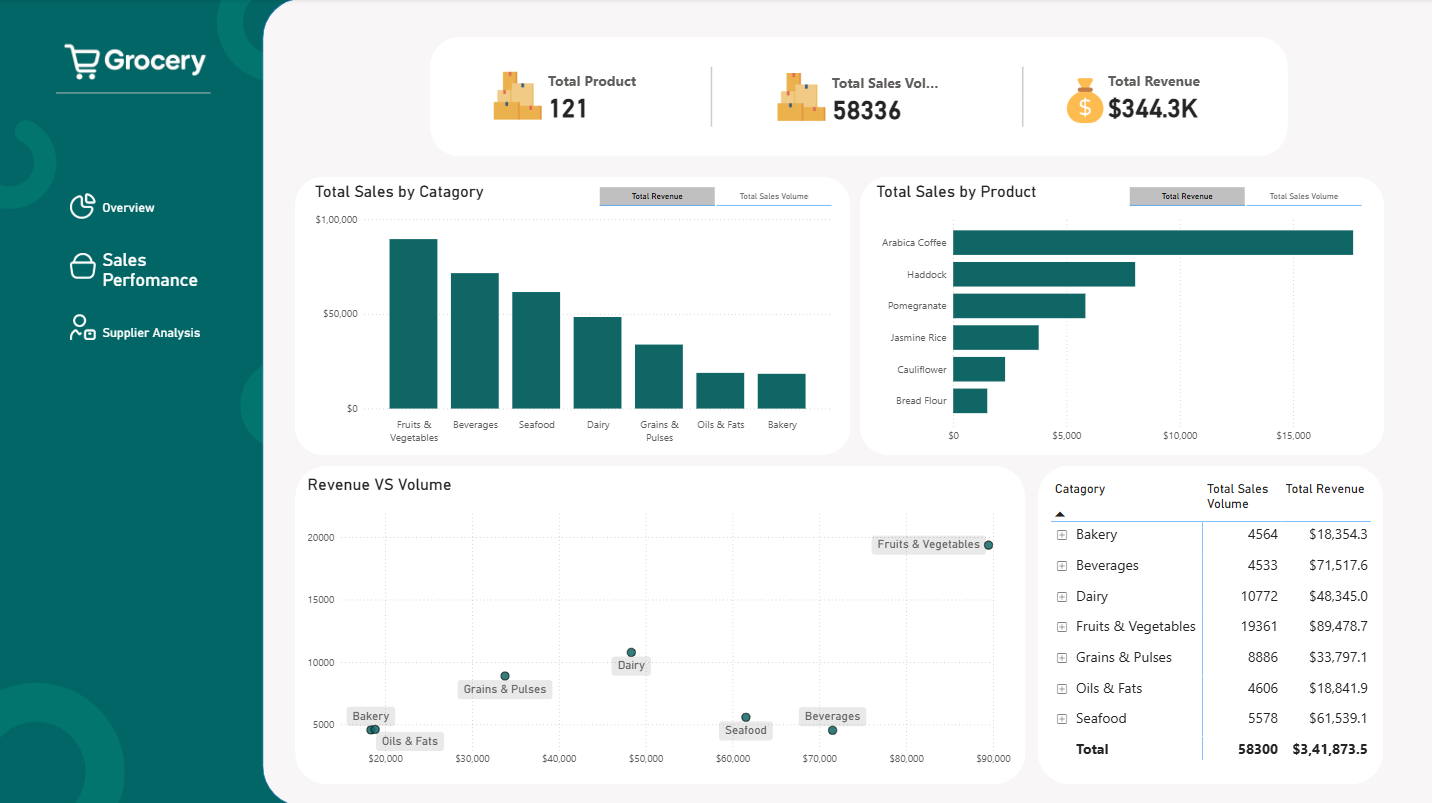

The page's visual inventory and layout, read from the dashboard file:
{"tool":"powerbi","page":{"name":"Sales Perfomance","canvas":[1920,1080],"ordinal":1},"visuals":[{"type":"shape","box":[350,0,1570,1080],"z":0},{"type":"image","box":[44,4,272.4,163.8],"z":0,"group":"g4"},{"type":"image","box":[94,260,34,34],"z":0,"group":"g5"},{"type":"cardVisual","fields":{"Data":["_measures.Total Revenue"]},"box":[1452,66,210,130],"z":1000,"group":"g3"},{"type":"shape","box":[76,88,206,80],"z":1000,"group":"g4"},{"type":"image","box":[94,422,34,34],"z":1000,"group":"g5"},{"type":"shape","box":[1386,624,462,426],"z":1000},{"type":"image","box":[94,341,34,34],"z":2000,"group":"g5"},{"type":"shape","box":[394,624,976,426],"z":2000},{"type":"shape","box":[1148,238,700,372],"z":3000},{"type":"shape","box":[574,52.2,1146,160],"z":4000},{"type":"pageNavigator","box":[138,242,180,242],"z":4000,"group":"g5"},{"type":"group","id":"g1","title":"Group 1","box":[660,66,254,130],"z":5000},{"type":"image","box":[1418,104,64,64],"z":5000,"group":"g3"},{"type":"group","id":"g2","title":"Group 1","box":[1039,68,254,130],"z":6000},{"type":"group","id":"g3","title":"Group 2","box":[1418,66,244,130],"z":7000},{"type":"cardVisual","fields":{"Data":["_measures.Total Product"]},"box":[704,66,210,130],"z":8000,"group":"g1"},{"type":"cardVisual","fields":{"Data":["_measures.Total Sales Volume"]},"box":[1083,68,210,130],"z":8000,"group":"g2"},{"type":"shape","box":[394,238,742,372],"z":8000},{"type":"image","box":[660,98,64,64],"z":9000,"group":"g1"},{"type":"image","box":[1039,100,64,64],"z":9000,"group":"g2"},{"type":"clusteredColumnChart","title":"Total Sales by Catagory","fields":{"Y":["_measures.Total Revenue"],"Category":["Grocery_Inventory new v1.Catagory"]},"box":[416,246,700,358],"z":9000},{"type":"clusteredBarChart","title":"Total Sales by Product","fields":{"Y":["_measures.Total Revenue"],"Category":["Grocery_Inventory new v1.Product_Name"]},"box":[1166,246,682,358],"z":10000},{"type":"scatterChart","title":"Revenue VS Volume","fields":{"X":["_measures.Total Revenue"],"Y":["_measures.Total Sales Volume"],"Category":["Grocery_Inventory new v1.Catagory"]},"box":[406,638,950,398],"z":11000},{"type":"pivotTable","fields":{"Values":["_measures.Total Sales Volume","_measures.Total Revenue"],"Rows":["Grocery_Inventory new v1.Catagory","Grocery_Inventory new v1.Product_Name"]},"box":[1400,638,438,412],"z":12000},{"type":"slicer","fields":{"Values":["volume vs revenue.volume vs revenue"]},"box":[775,246,360,33],"z":14000},{"type":"slicer","fields":{"Values":["vol vs rev.vol vs rev"]},"box":[1482,246,360,33],"z":15000},{"type":"shape","box":[918,92,64,80],"z":16000},{"type":"shape","box":[1334,92,64,80],"z":17000},{"type":"group","id":"g4","title":"Group 6","box":[44,4,272.4,164],"z":17001},{"type":"group","id":"g5","title":"Group 5","box":[94,242,224,242],"z":17002}]}

Visuals, with their boxes on the page's 1920x1080 design canvas (x1, y1, x2, y2). These are canvas units, not pixel positions in the 1432x803 screenshot, which may show the page scaled, cropped or inside an application window:
shape: 350/0/1920/1080
image: 44/4/316/168
image: 94/260/128/294
cardVisual - _measures.Total Revenue: 1452/66/1662/196
shape: 76/88/282/168
image: 94/422/128/456
shape: 1386/624/1848/1050
image: 94/341/128/375
shape: 394/624/1370/1050
shape: 1148/238/1848/610
shape: 574/52/1720/212
pageNavigator: 138/242/318/484
"Group 1" group: 660/66/914/196
image: 1418/104/1482/168
"Group 1" group: 1039/68/1293/198
"Group 2" group: 1418/66/1662/196
cardVisual - _measures.Total Product: 704/66/914/196
cardVisual - _measures.Total Sales Volume: 1083/68/1293/198
shape: 394/238/1136/610
image: 660/98/724/162
image: 1039/100/1103/164
"Total Sales by Catagory" clusteredColumnChart: 416/246/1116/604
"Total Sales by Product" clusteredBarChart: 1166/246/1848/604
"Revenue VS Volume" scatterChart: 406/638/1356/1036
pivotTable - _measures.Total Sales Volume x _measures.Total Revenue: 1400/638/1838/1050
slicer - volume vs revenue.volume vs revenue: 775/246/1135/279
slicer - vol vs rev.vol vs rev: 1482/246/1842/279
shape: 918/92/982/172
shape: 1334/92/1398/172
"Group 6" group: 44/4/316/168
"Group 5" group: 94/242/318/484
